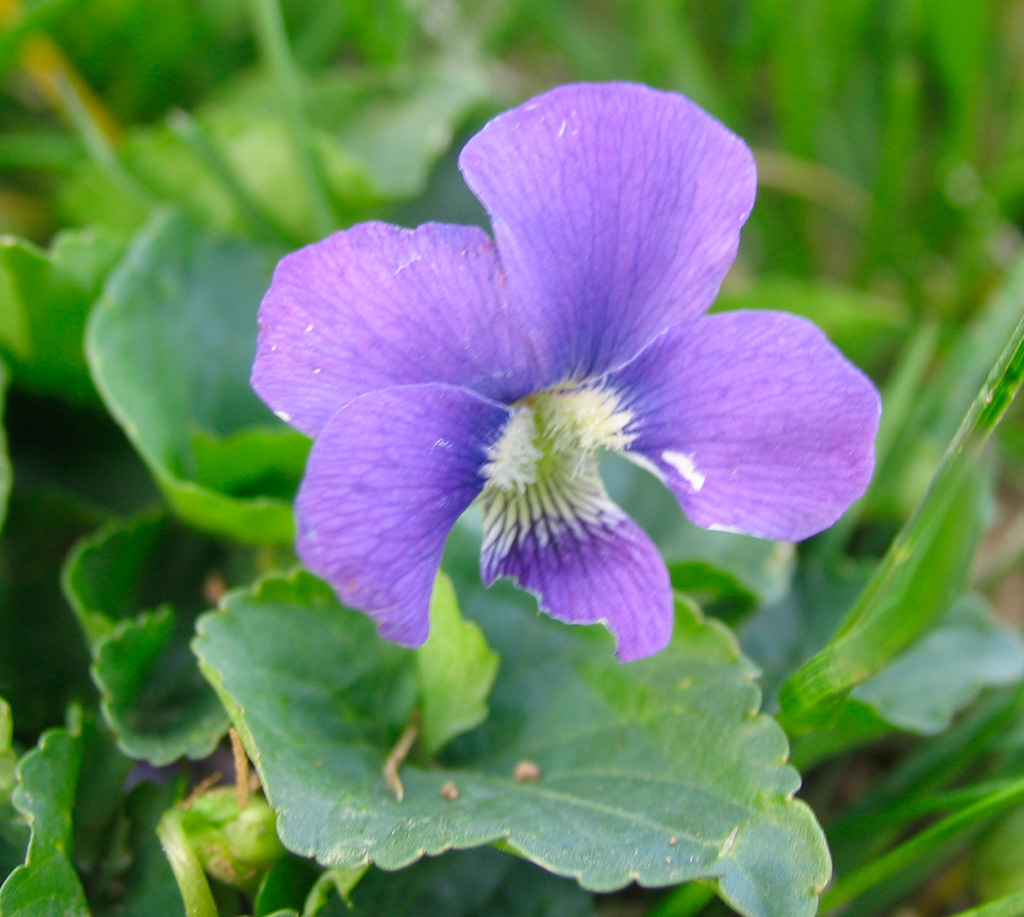violet: (245, 76, 877, 672)
